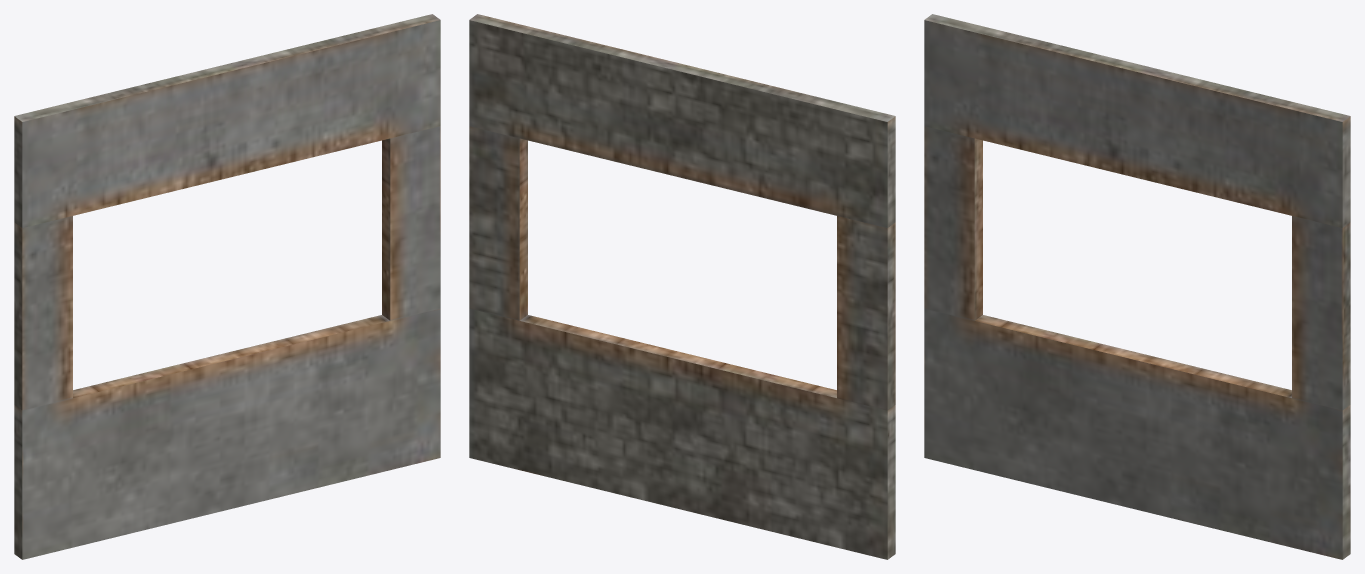
File: stone_window_textured.glb
3 views of the same model, side by side, from view 1: azimuth 30°, elevation 25°; view 2: azimuth 150°, elevation 25°; view 3: azimuth 330°, elevation 25° (orthographic).
Visible parts, largest first — view 1: Cube.001; view 2: Cube.001; view 3: Cube.001.
Part boxes in pixels (box(x1,y1,x2,y2)): Cube.001: box(14, 14, 440, 559); Cube.001: box(469, 14, 895, 559); Cube.001: box(924, 14, 1350, 559).
Size of the model in its own units: 2 by 2 by 0.0681.
1 material, 1 textured.
